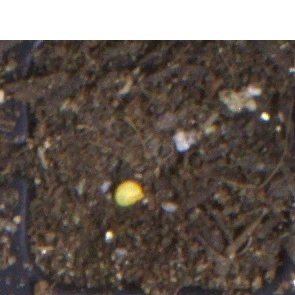chilli seed: (113, 178, 145, 208)
